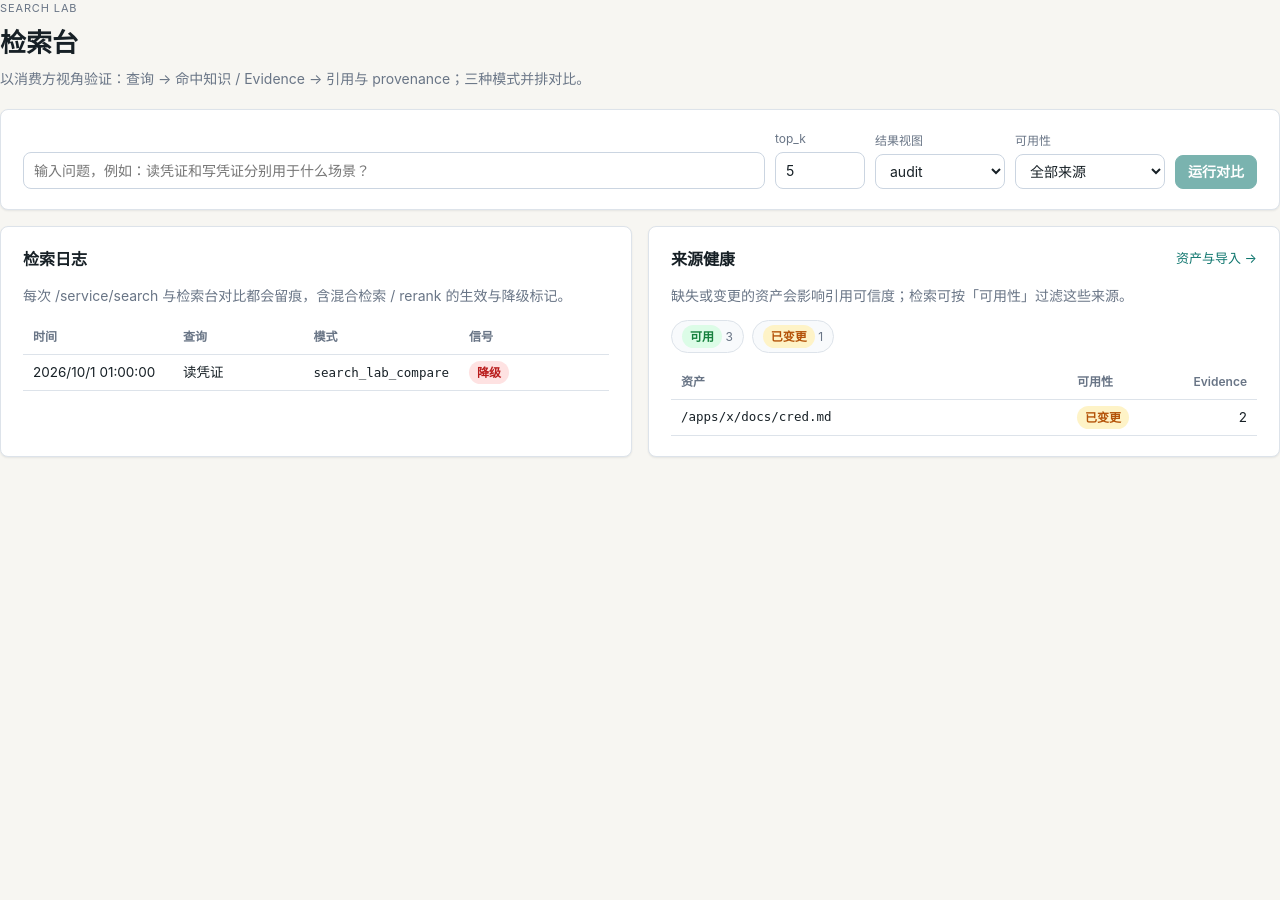
search lab › shows retrieval logs with hybrid/rerank signals and source health
Expected: the text "降级" is shown, x1=469 y1=360 x2=509 y2=384
Expected: the text "/apps/x/docs/cred.md" is shown, x1=681 y1=409 x2=832 y2=424
Click the text "读凭证" at (203, 372), box x1=183 y1=364 x2=224 y2=380
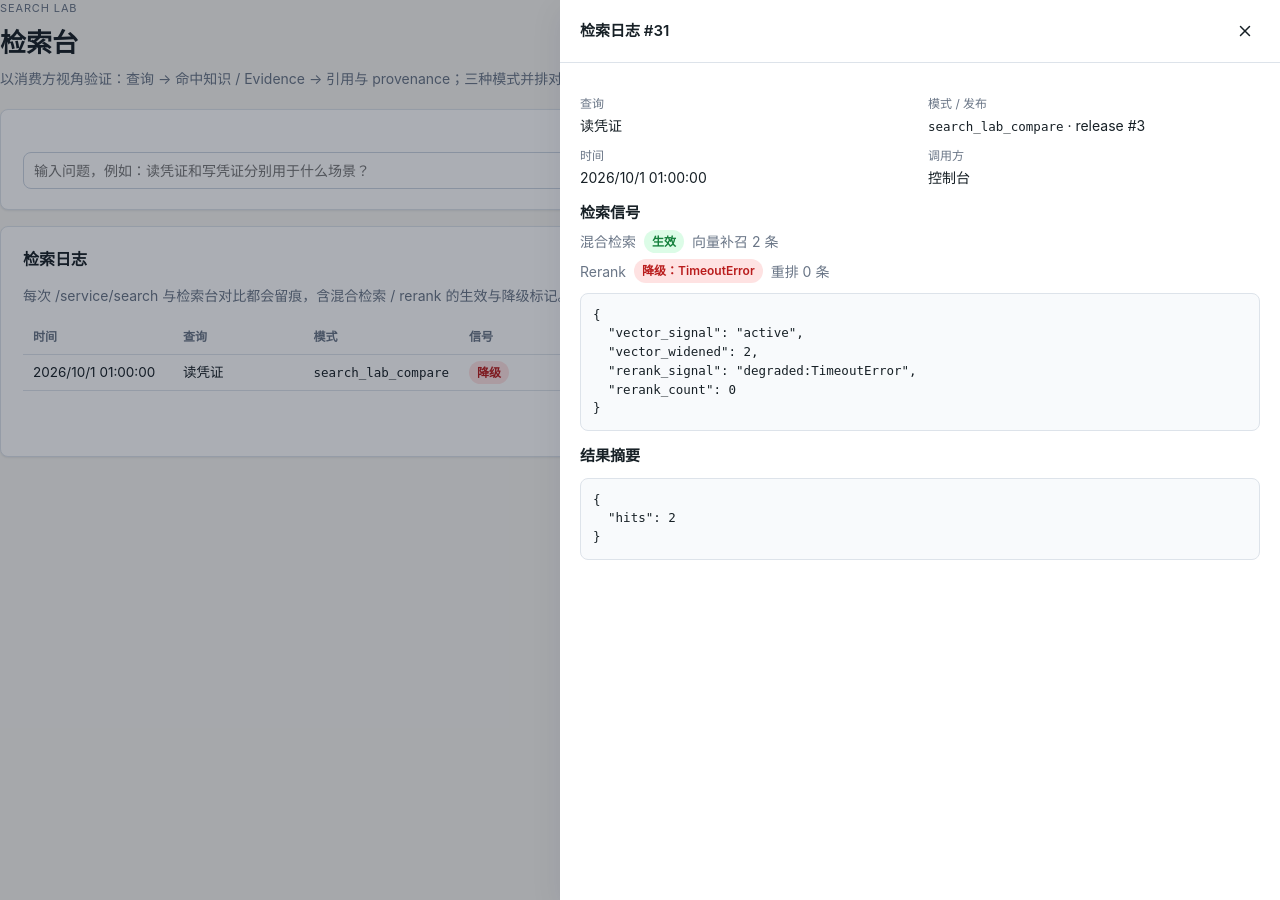
Expected: the dialog shows "向量补召 2 条", x1=692 y1=233 x2=778 y2=250
Expected: the dialog shows "降级：TimeoutError", x1=642 y1=263 x2=755 y2=278
